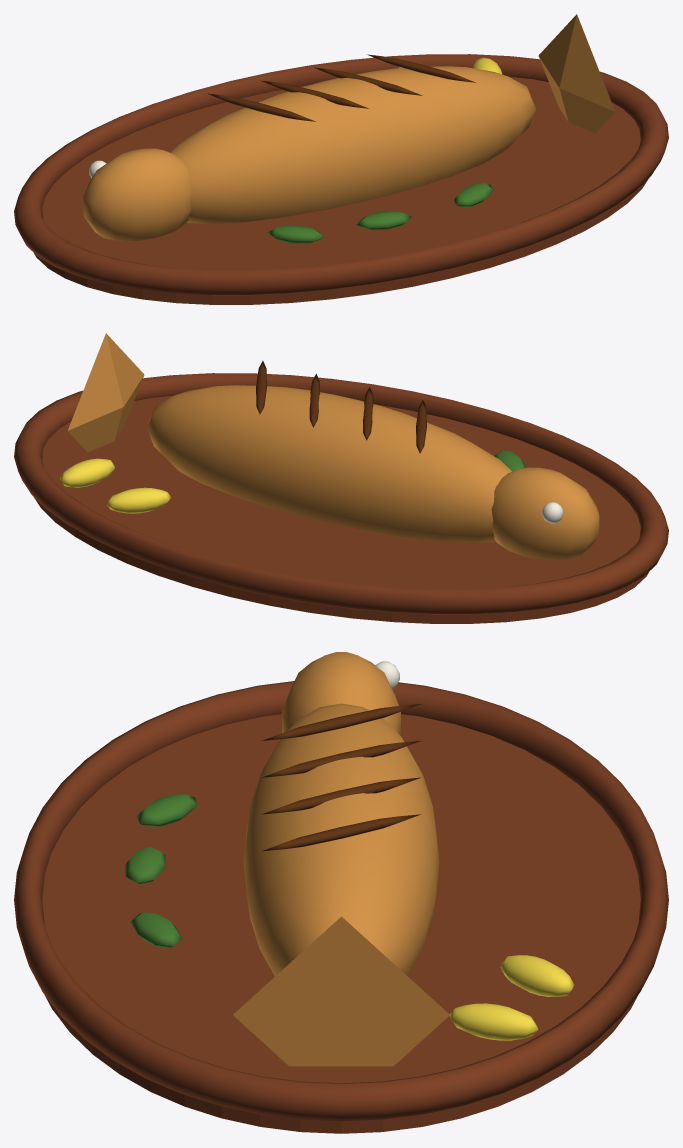
Rendered from silberbarsch_gebraten.glb.
3 renders of one model, top to bottom at view 1: azimuth 30°, elevation 25°; view 2: azimuth 150°, elevation 25°; view 3: azimuth 270°, elevation 25°, orthographic. The views are drawn at different scales.
Visible parts, largest first — view 1: Cylinder, Sphere, Torus, Sphere.005, Cone, Sphere.009, Sphere.010, Sphere.001, Sphere.004, Sphere.011, Sphere.002, Sphere.003; view 2: Cylinder, Sphere, Torus, Sphere.005, Cone, Sphere.007, Sphere.008, Sphere.001, Sphere.004, Sphere.002, Sphere.003; view 3: Cylinder, Torus, Sphere, Cone, Sphere.005, Sphere.008, Sphere.007, Sphere.004, Sphere.001, Sphere.009, Sphere.011, Sphere.003 (+2 smaller).
Part boxes in pixels (<box>): Cylinder: <box>34,76,648,304</box>; Sphere: <box>170,66,535,224</box>; Torus: <box>14,54,668,295</box>; Sphere.005: <box>83,148,191,241</box>; Cone: <box>538,14,615,133</box>; Sphere.009: <box>267,225,324,243</box>; Sphere.010: <box>356,211,411,230</box>; Sphere.001: <box>207,93,315,121</box>; Sphere.004: <box>367,54,475,82</box>; Sphere.011: <box>453,183,493,207</box>; Sphere.002: <box>260,80,369,108</box>; Sphere.003: <box>314,67,422,95</box>; Cylinder: <box>34,395,648,623</box>; Sphere: <box>147,385,512,543</box>; Torus: <box>14,373,668,614</box>; Sphere.005: <box>491,467,599,560</box>; Cone: <box>67,333,144,452</box>; Sphere.007: <box>106,487,171,513</box>; Sphere.008: <box>60,458,114,487</box>; Sphere.001: <box>416,400,426,453</box>; Sphere.004: <box>256,361,266,414</box>; Sphere.002: <box>362,386,373,440</box>; Sphere.003: <box>309,373,320,427</box>; Cylinder: <box>42,714,640,1133</box>; Torus: <box>14,681,668,1121</box>; Sphere: <box>243,703,439,976</box>; Cone: <box>233,916,449,1066</box>; Sphere.005: <box>282,652,400,735</box>; Sphere.008: <box>449,1003,538,1040</box>; Sphere.007: <box>500,955,574,996</box>; Sphere.004: <box>262,814,420,851</box>; Sphere.001: <box>262,704,420,740</box>; Sphere.009: <box>137,794,197,826</box>; Sphere.011: <box>130,912,182,947</box>; Sphere.003: <box>261,777,420,814</box>.
Size of the model in its own units: 0.4598 by 0.1 by 0.301.
